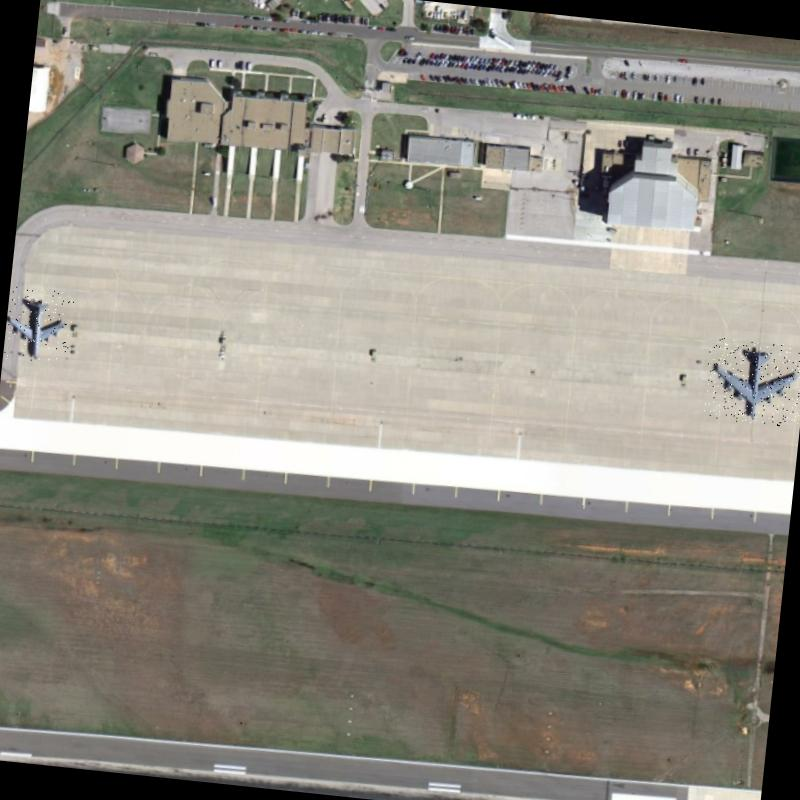A14: (4, 286, 74, 365)
A8: (702, 336, 800, 428)
